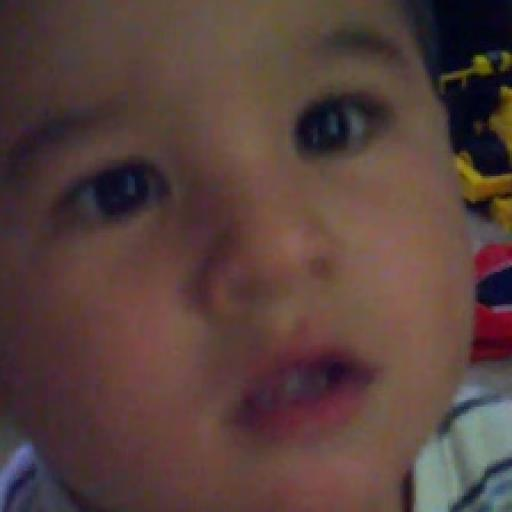Autism: (0, 8, 481, 512)
